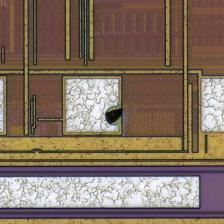PARTICLE: (105, 107, 125, 127)
